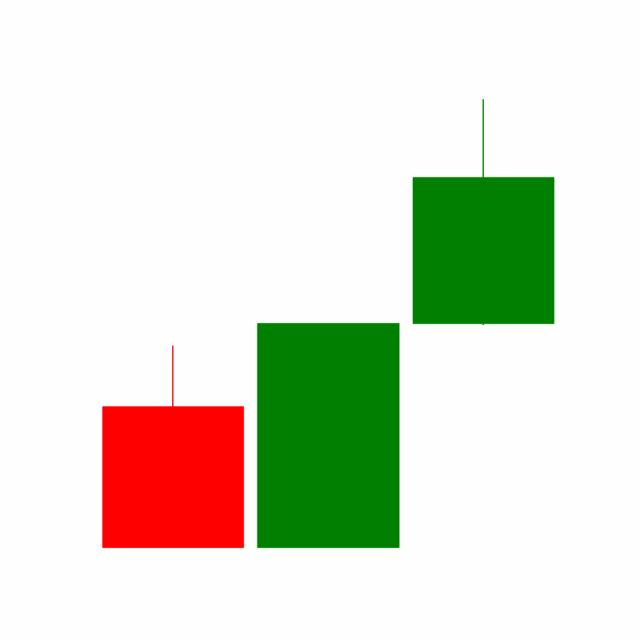Marubozu: (249, 320, 406, 550)
